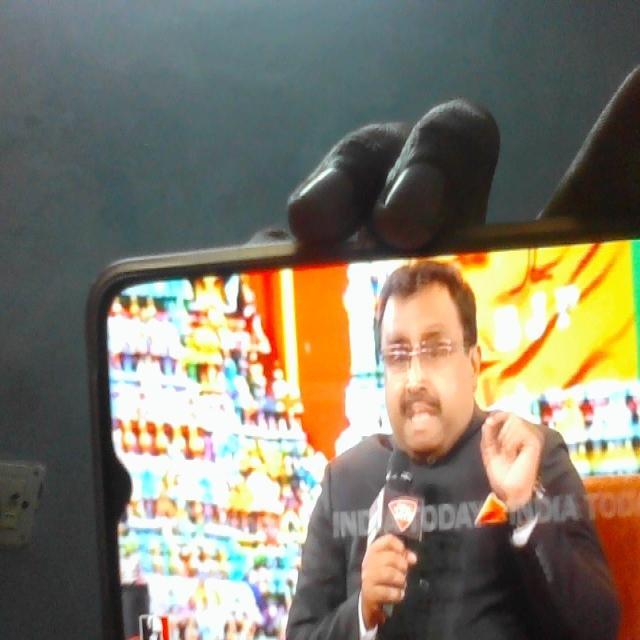fake: (370, 243, 490, 469)
